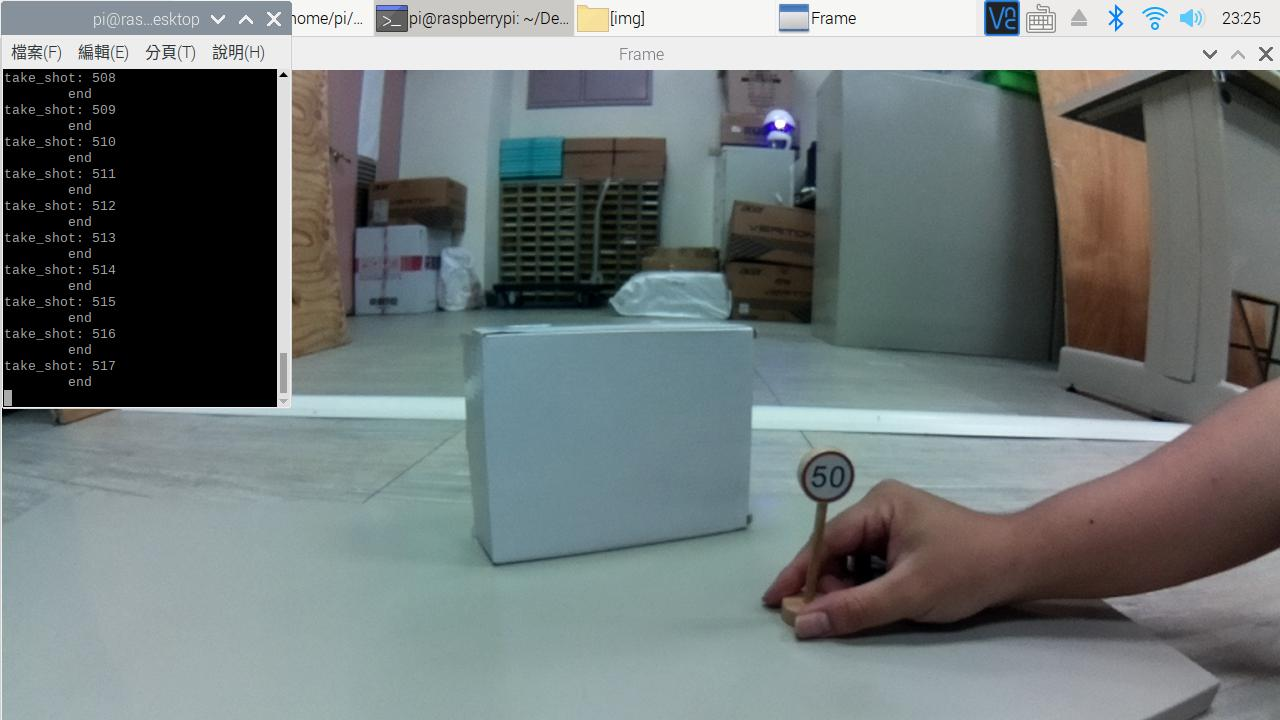Speed50: (801, 443, 857, 511)
